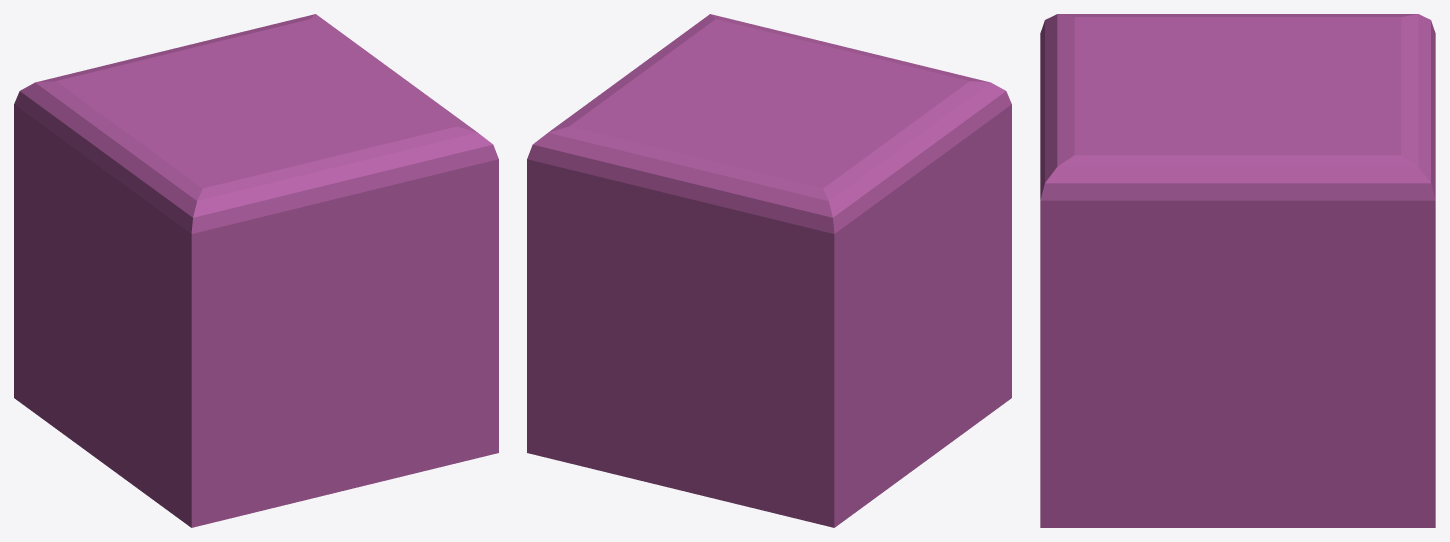
Rendered from Puf.fbx.
The picture shows the model from 3 angles, left to right: view 1: azimuth 30°, elevation 25°; view 2: azimuth 150°, elevation 25°; view 3: azimuth 270°, elevation 25°; orthographic projection. The views are drawn at different scales.
Parts seen in each view (by area): view 1: puff.003; view 2: puff.003; view 3: puff.003.
Boxes of the visible parts, left/top/right/bottom form: puff.003: left=14, top=14, right=498, bottom=527; puff.003: left=527, top=14, right=1011, bottom=527; puff.003: left=1040, top=14, right=1435, bottom=527.
Size of the model in its own units: 39.25 by 39.25 by 39.25.
